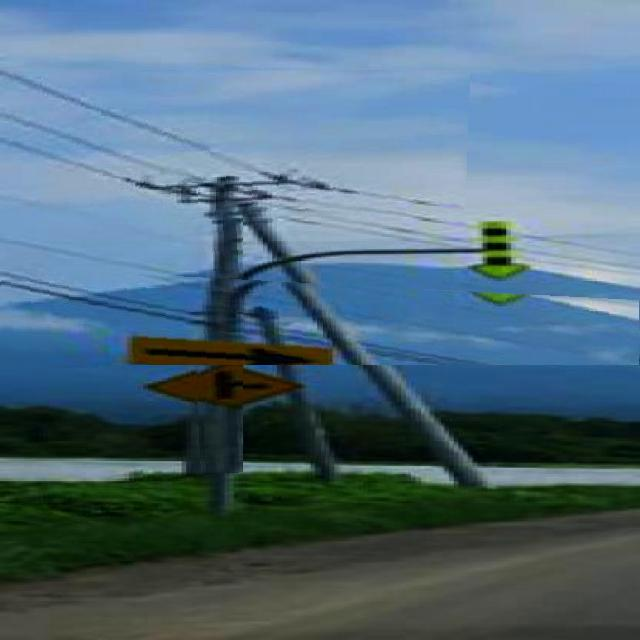crossarm: (161, 189, 302, 197)
pole: (198, 185, 243, 475)
wire: (0, 71, 466, 214), (0, 268, 546, 365), (0, 110, 210, 184), (0, 140, 174, 193)
